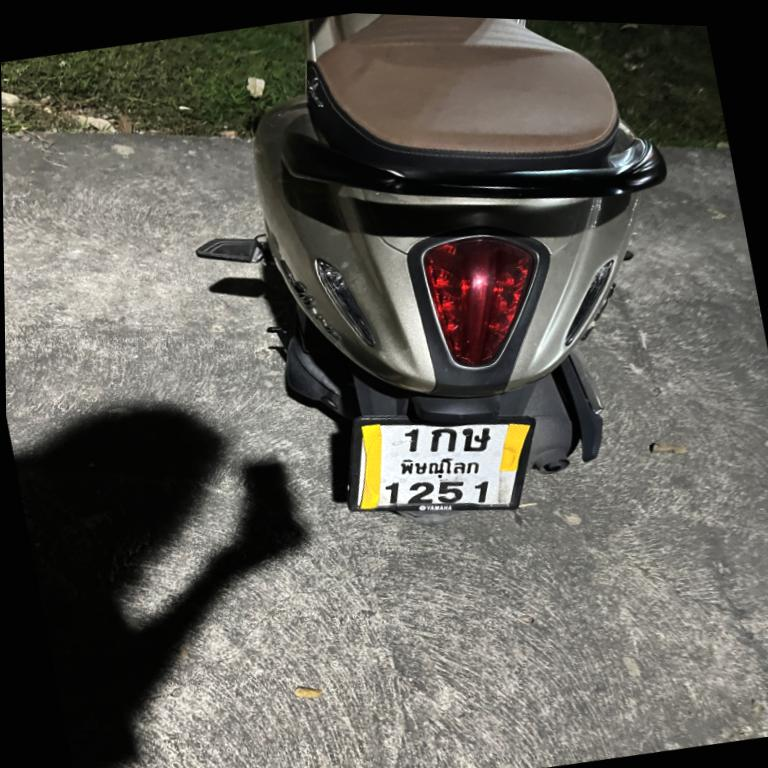license plate: (333, 383, 546, 537)
